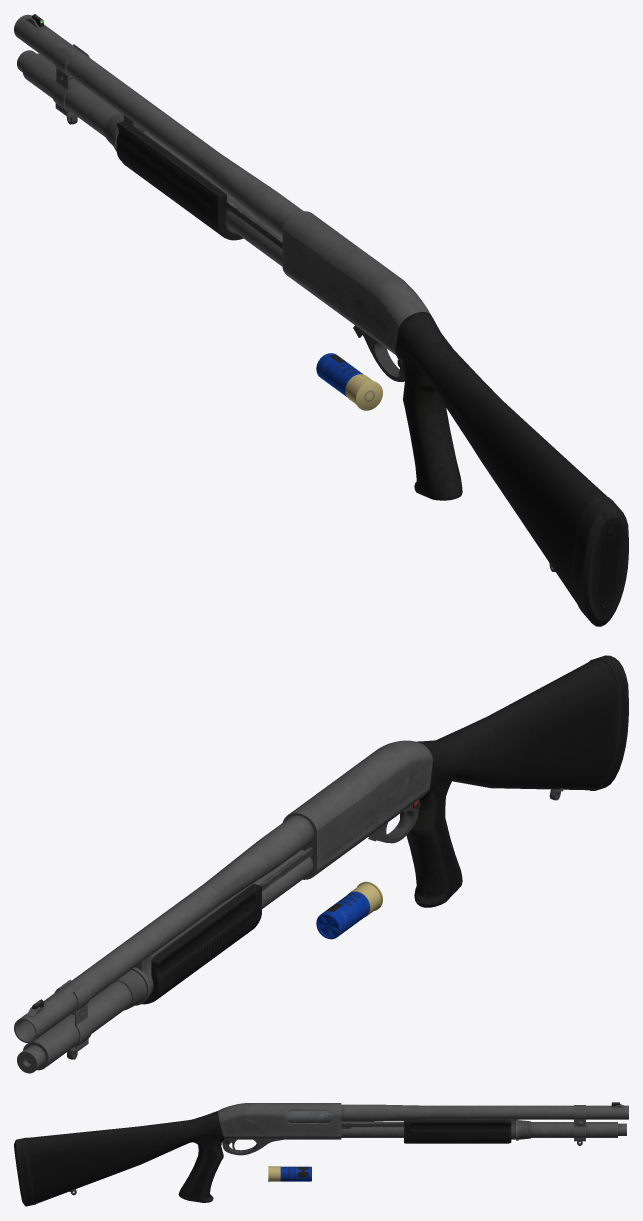
File: shotgun.glb
3 renders of one model, top to bottom at view 1: azimuth 30°, elevation 25°; view 2: azimuth 150°, elevation 25°; view 3: azimuth 270°, elevation 25°, orthographic. The views are drawn at different scales.
Visible parts, largest first — view 1: shotgun_Gun, shotgun_GunFull, shotgun_Magazine; view 2: shotgun_Gun, shotgun_GunFull, shotgun_Magazine; view 3: shotgun_Gun, shotgun_GunFull, shotgun_Magazine.
Boxes of the visible parts, x1=… form: shotgun_Gun: x1=14, y1=14, x2=628, y2=626; shotgun_GunFull: x1=14, y1=14, x2=607, y2=597; shotgun_Magazine: x1=316, y1=353, x2=382, y2=410; shotgun_Gun: x1=14, y1=655, x2=628, y2=1073; shotgun_GunFull: x1=15, y1=659, x2=618, y2=1073; shotgun_Magazine: x1=316, y1=881, x2=382, y2=939; shotgun_Gun: x1=14, y1=1102, x2=628, y2=1206; shotgun_GunFull: x1=26, y1=1102, x2=628, y2=1203; shotgun_Magazine: x1=268, y1=1166, x2=311, y2=1182.
Size of the model in its own units: 0.042 by 0.1767 by 0.95.
2 materials, 2 textured.
